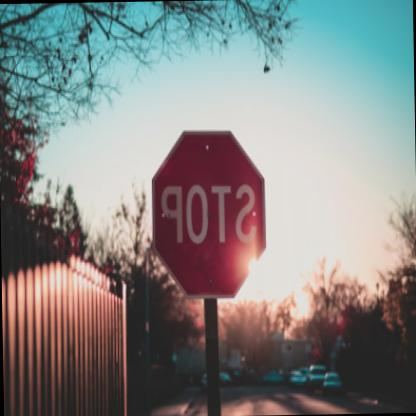stop: (150, 122, 270, 298)
